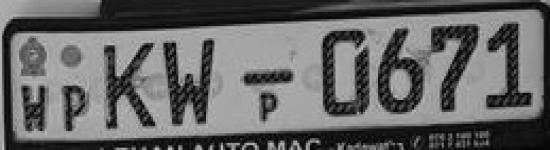-: (237, 64, 298, 88)
0: (316, 24, 373, 120)
1: (484, 18, 538, 112)
6: (374, 22, 427, 118)
7: (427, 21, 484, 118)
K: (99, 37, 161, 134)
P: (57, 79, 93, 136)
W: (161, 34, 220, 132), (20, 80, 50, 138)
